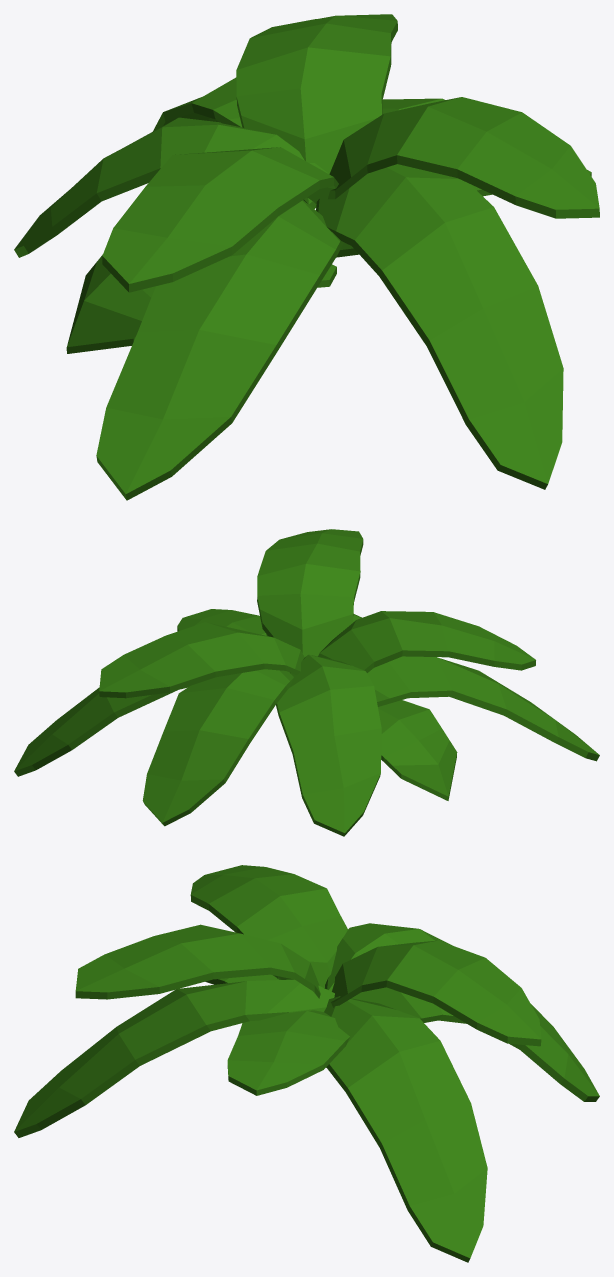
Rendered from bladeren 1.fbx.
3 views of the same model, one above another, from view 1: azimuth 30°, elevation 25°; view 2: azimuth 150°, elevation 25°; view 3: azimuth 270°, elevation 25° (orthographic). The views are drawn at different scales.
Visible parts, largest first — view 1: Plane.002; view 2: Plane.002; view 3: Plane.002.
Boxes of the visible parts, <box> form: Plane.002: <box>14,14,599,500</box>; Plane.002: <box>14,529,599,836</box>; Plane.002: <box>14,865,599,1262</box>.
Size of the model in its own units: 578 by 232 by 560.
